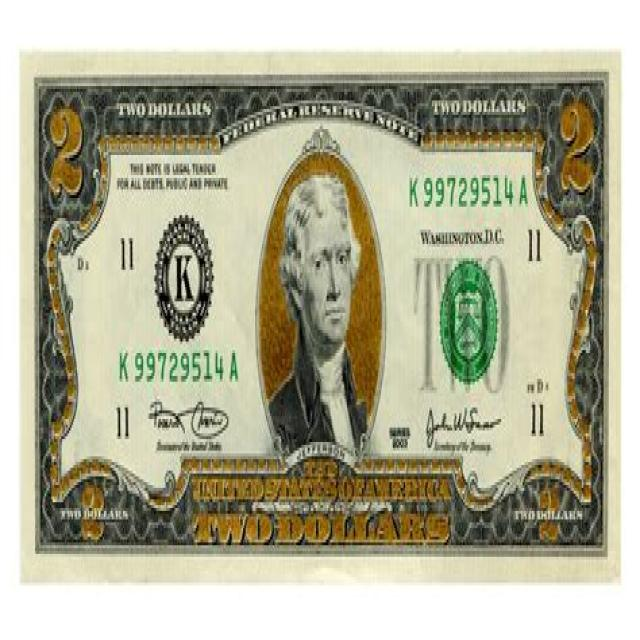Two: (20, 51, 620, 580)
